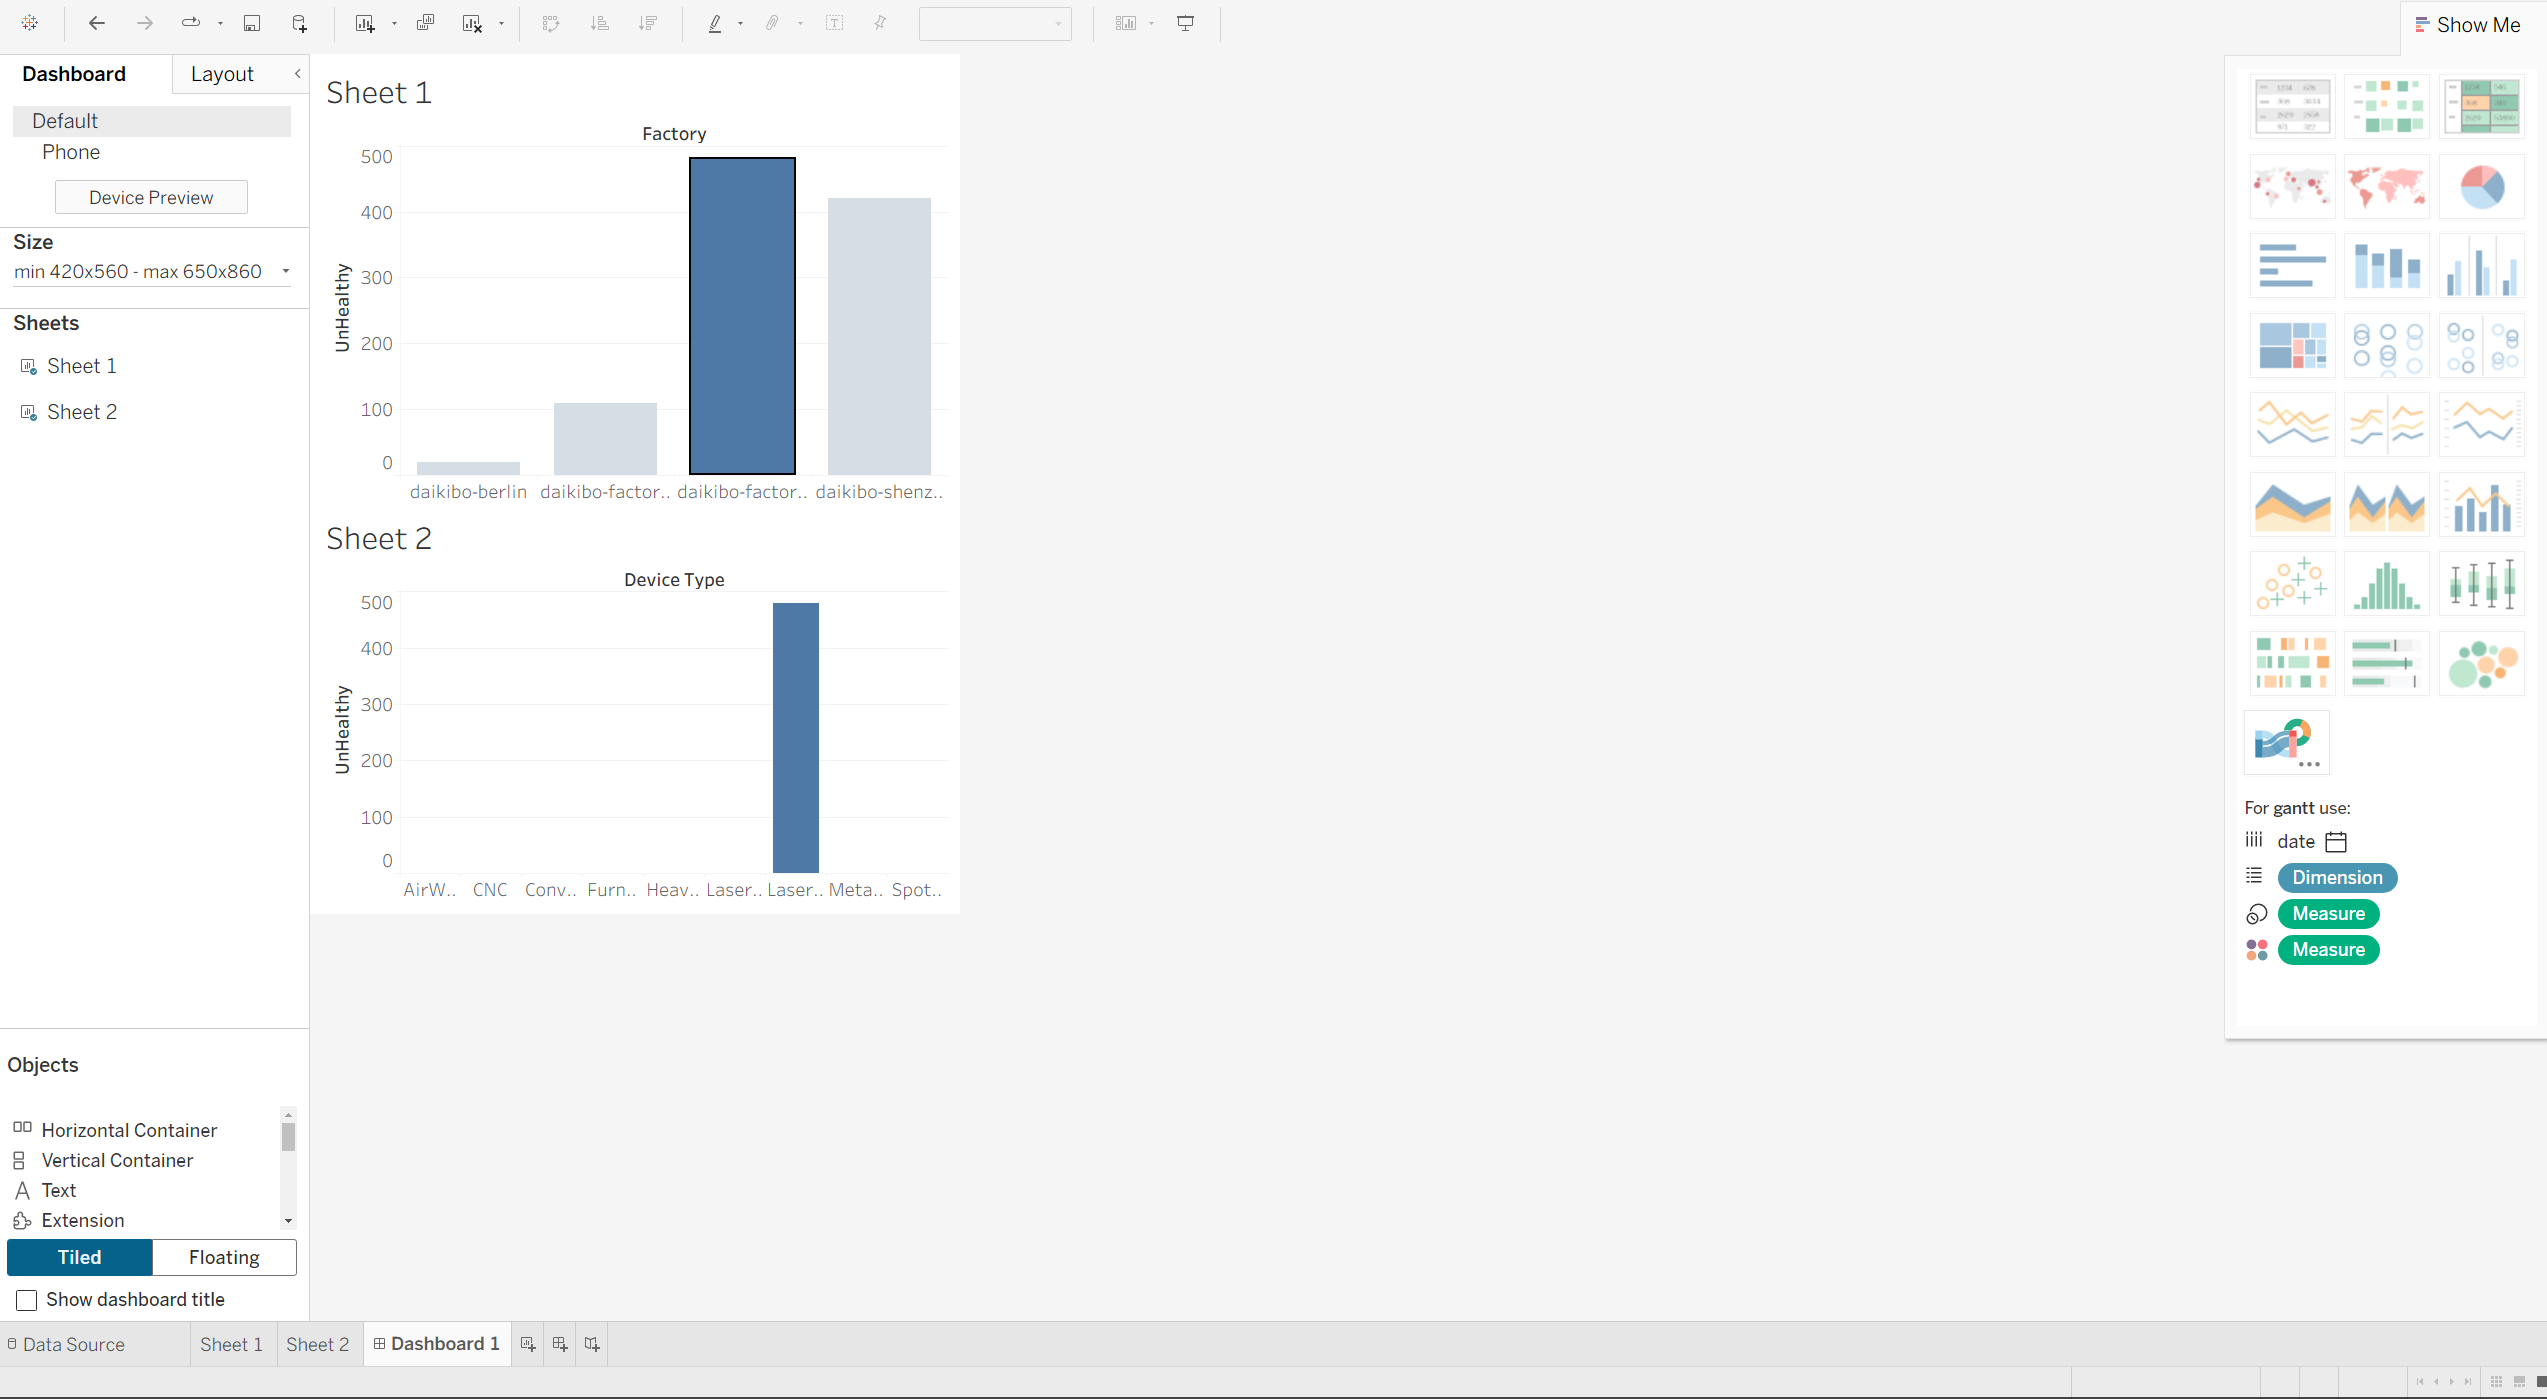

The dashboard page shown, as its layout file describes it:
{"tool":"tableau","page":{"name":"Dashboard 1","canvas":[650,860],"ordinal":0},"visuals":[{"type":"worksheet","title":"Sheet 1","mark":"Automatic","rows":["Calculation_384213382399045632"],"cols":["factory"],"box":[8,8,634,446]},{"type":"worksheet","title":"Sheet 2","mark":"Automatic","rows":["Calculation_384213382399045632"],"cols":["deviceType"],"box":[8,454,634,398]}]}

Visuals, with their boxes on the page's 650x860 design canvas (x1, y1, x2, y2). These are canvas units, not pixel positions in the 2547x1399 screenshot, which may show the page scaled, cropped or inside an application window:
"Sheet 1" worksheet: <box>8,8,642,454</box>
"Sheet 2" worksheet: <box>8,454,642,852</box>
